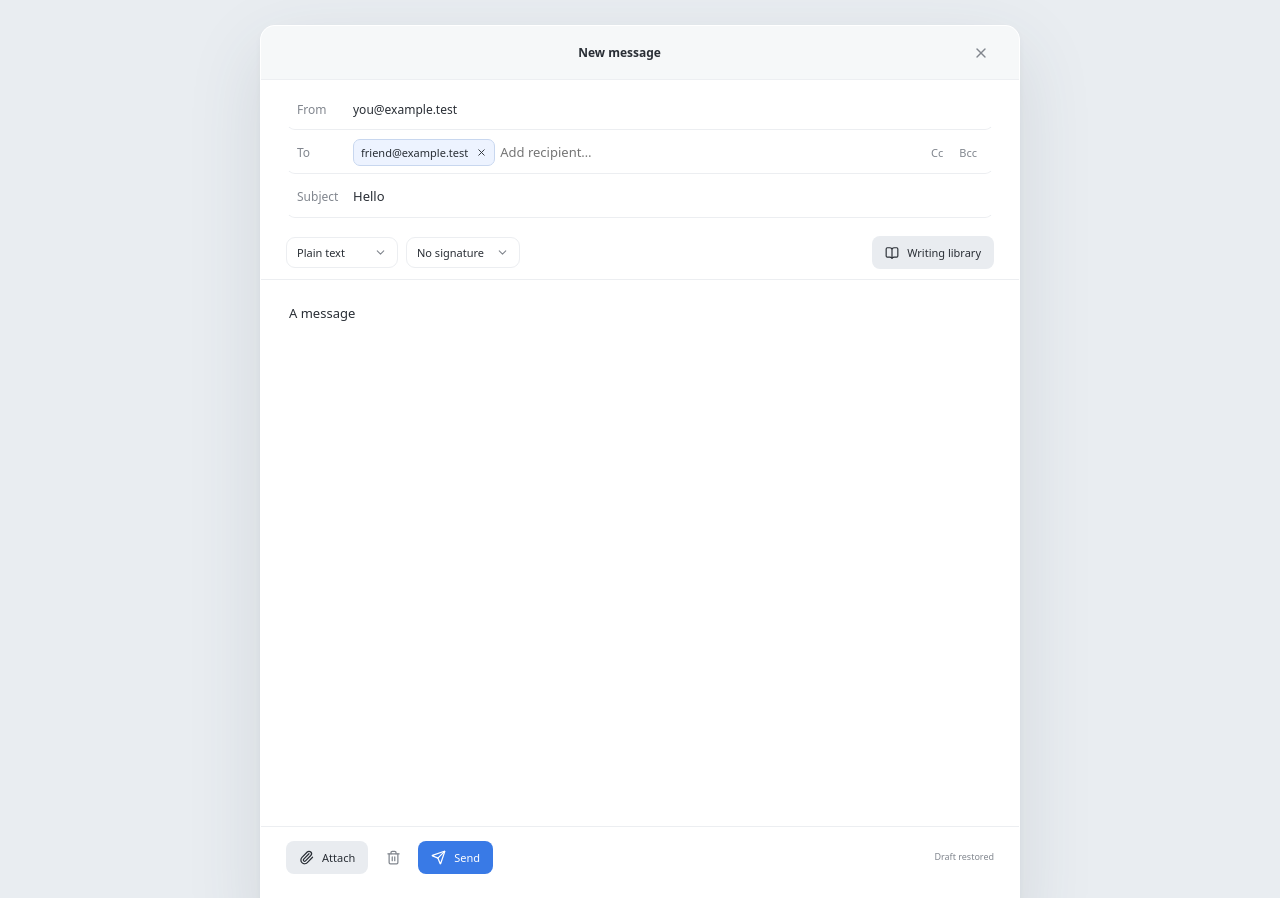
real Outlook composer › inserts a plain-text snippet at the saved caret without replacing the message
The image size is (1280, 898).
Click the button "Writing library" at point(933, 252), box [872,236,994,269]
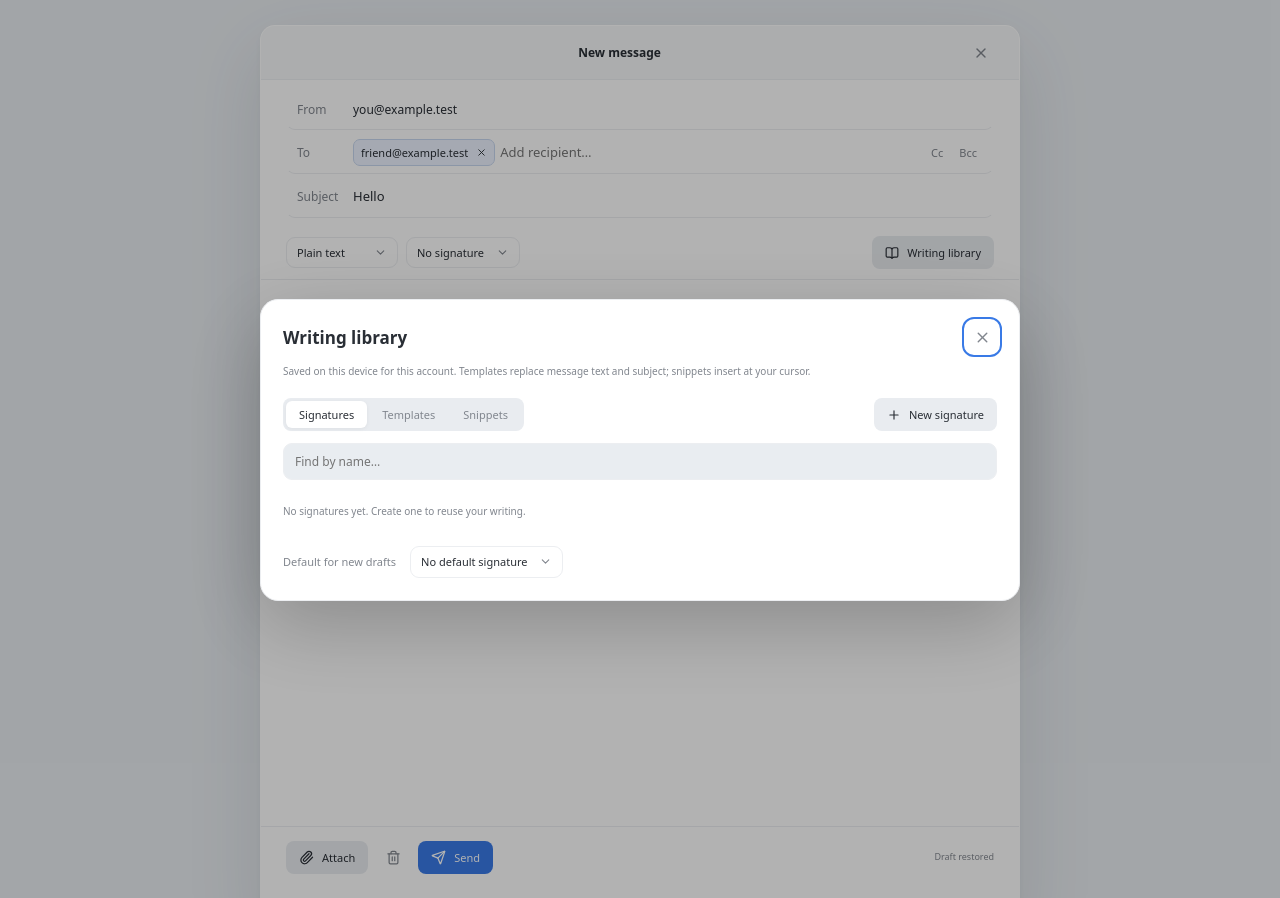
Click the button "Snippets" at point(486, 415), box [450,401,521,428]
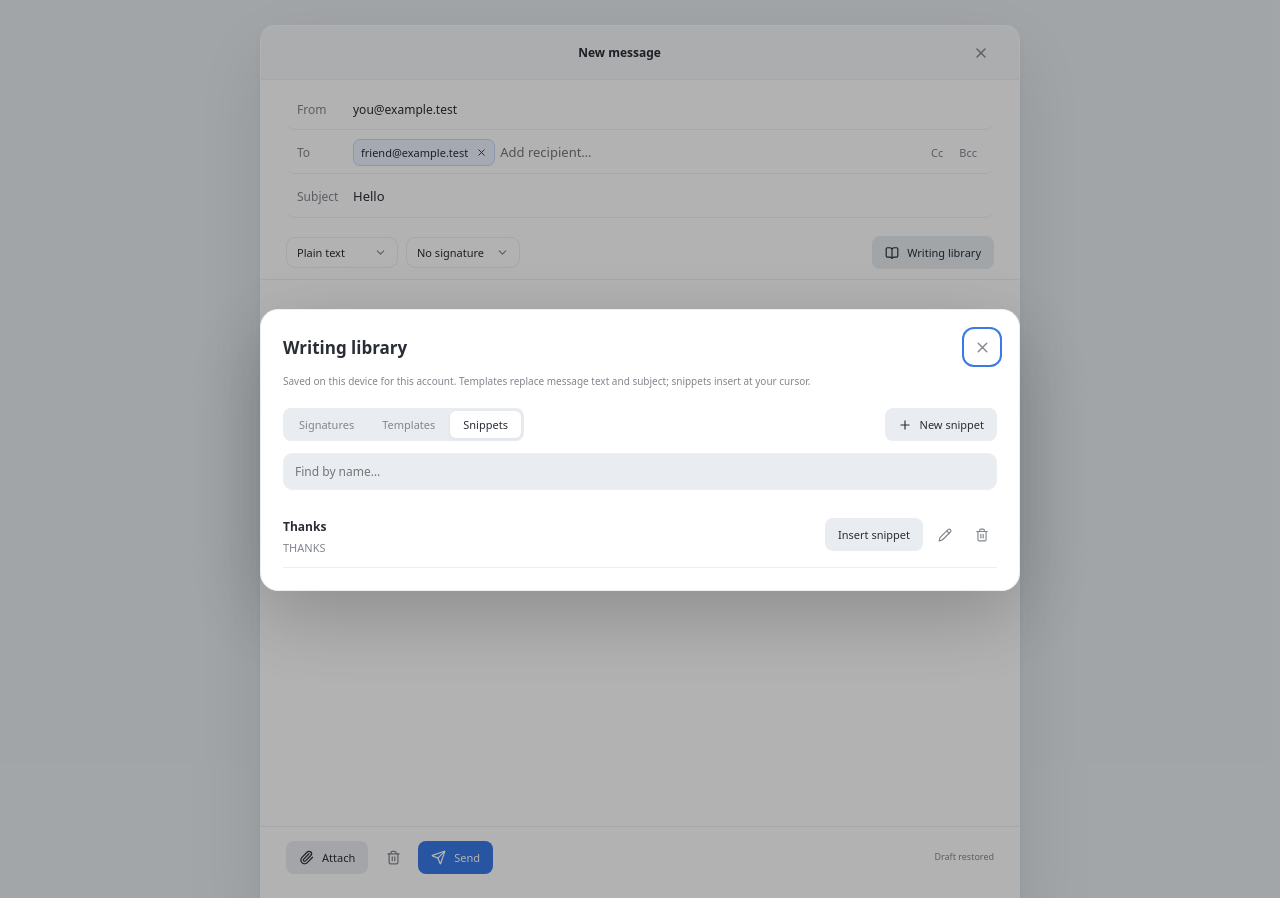
Click the button "Insert snippet" at point(874, 534), box [825,518,923,551]
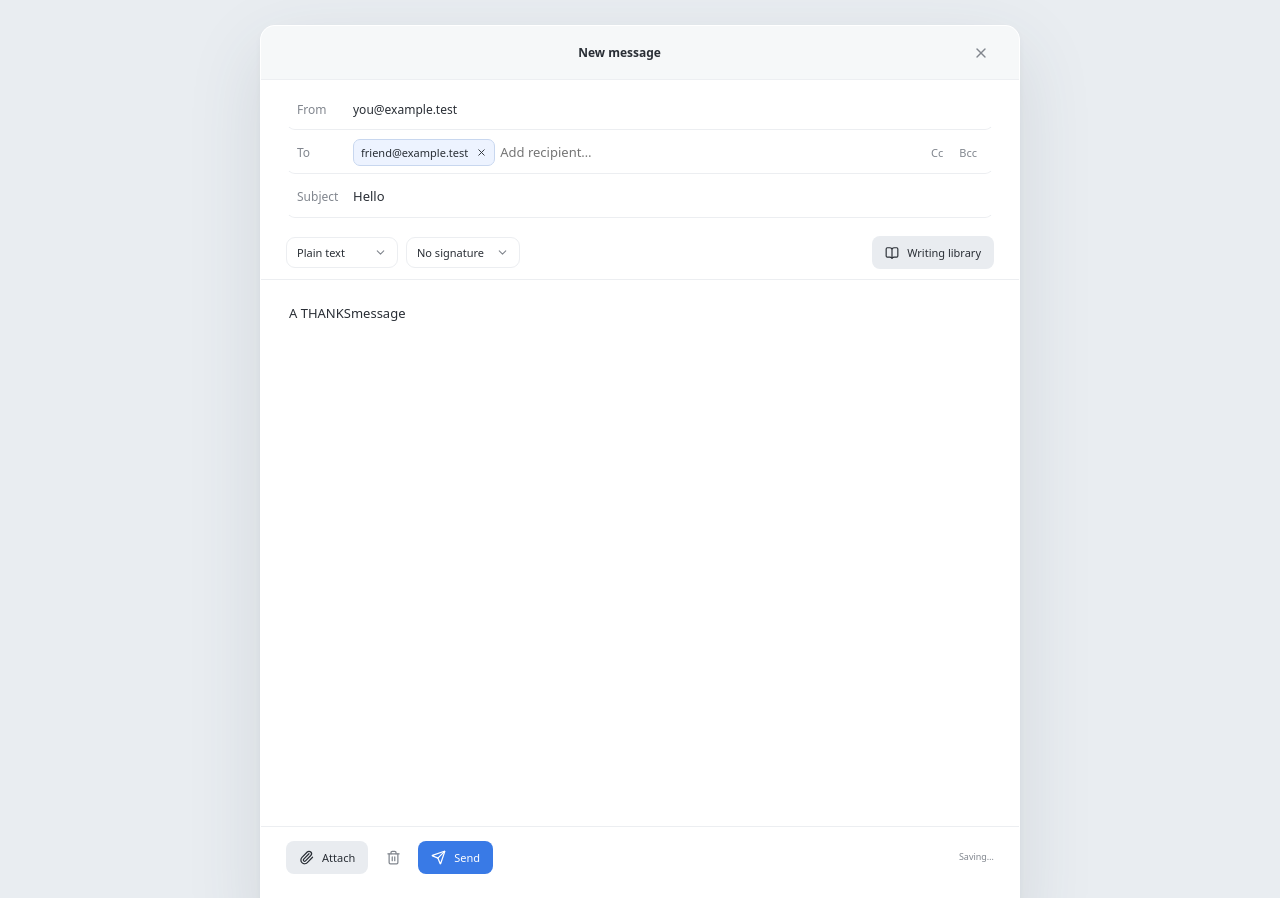
Expected: the text box named "Message body" holds "A THANKSmessage", [261,280,1019,826]
